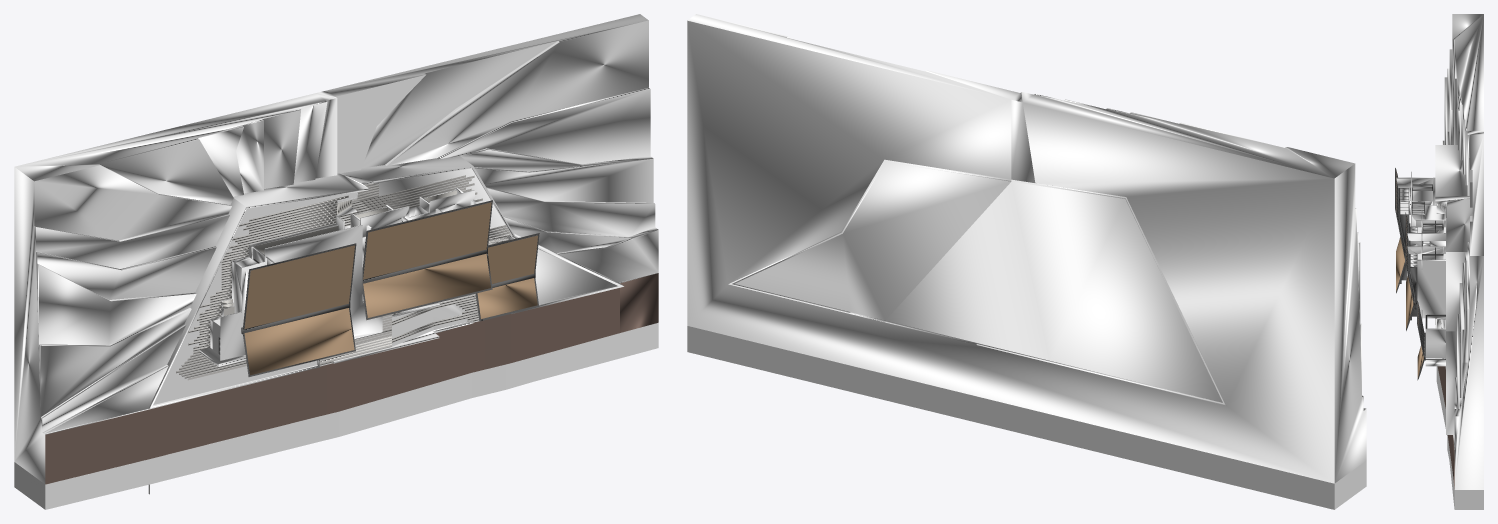
The model's file is shaji_6.glb.
3 views of the same model, side by side, from view 1: azimuth 30°, elevation 25°; view 2: azimuth 150°, elevation 25°; view 3: azimuth 270°, elevation 25° (orthographic). The views are drawn at different scales.
Parts seen in each view (by area): view 1: Group174; view 2: Group174; view 3: Group174.
Boxes of the visible parts, x1,y1,x2,y2 form: Group174: (14, 14, 658, 509); Group174: (687, 14, 1366, 509); Group174: (1395, 14, 1483, 509).
Bounding box in the file's own units: 0.4969 × 0.2508 × 0.0772.
